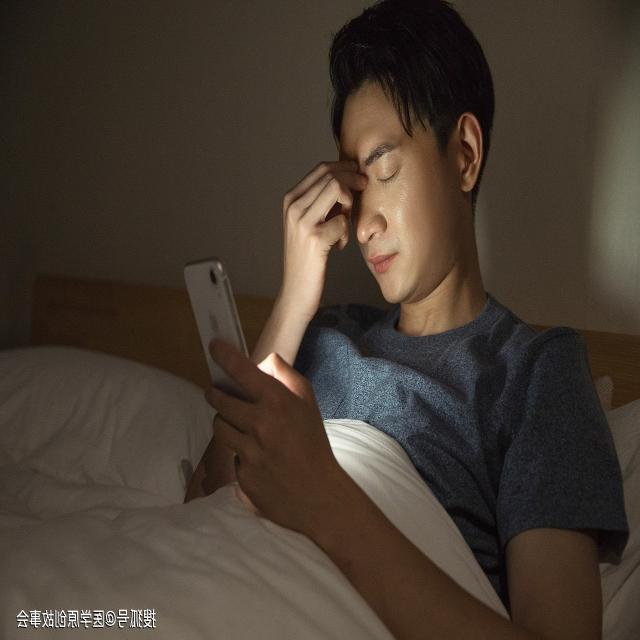phone: (181, 260, 248, 405)
